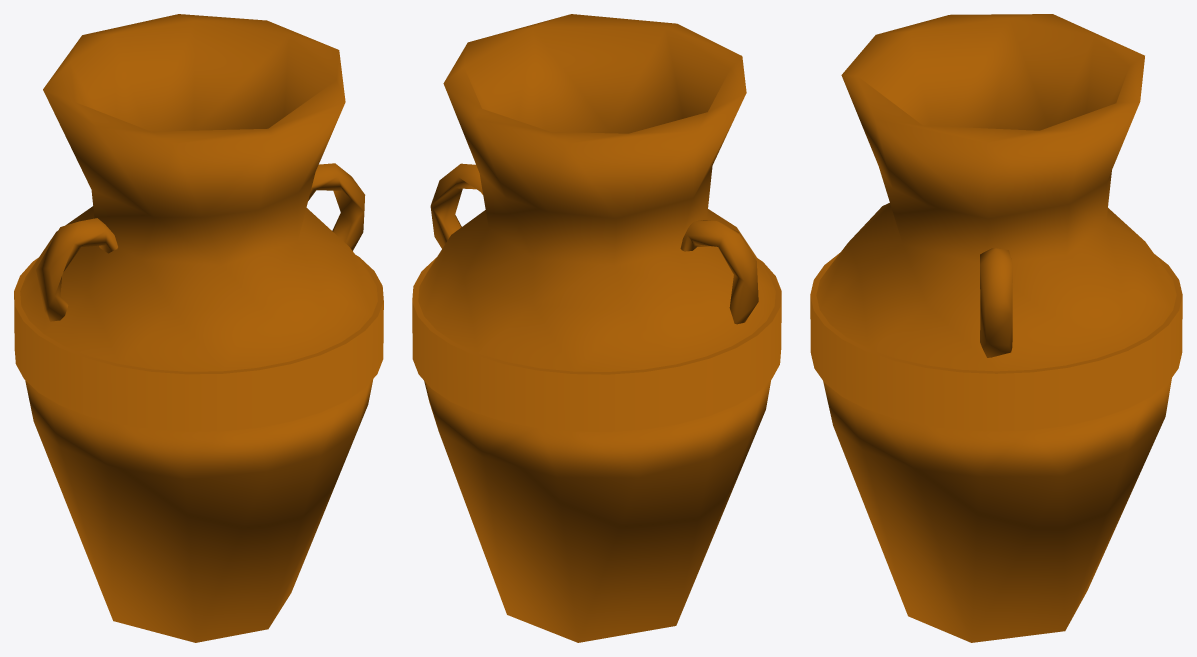
The model's file is JAR2.fbx.
The picture shows the model from 3 angles, left to right: view 1: azimuth 30°, elevation 25°; view 2: azimuth 150°, elevation 25°; view 3: azimuth 270°, elevation 25°; orthographic projection.
Visible parts, largest first — view 1: Cylinder; view 2: Cylinder; view 3: Cylinder.
Part boxes in pixels (<box>): Cylinder: <box>14,14,383,642</box>; Cylinder: <box>412,14,781,642</box>; Cylinder: <box>810,14,1182,642</box>.
Size of the model in its own units: 280 by 437 by 279.
